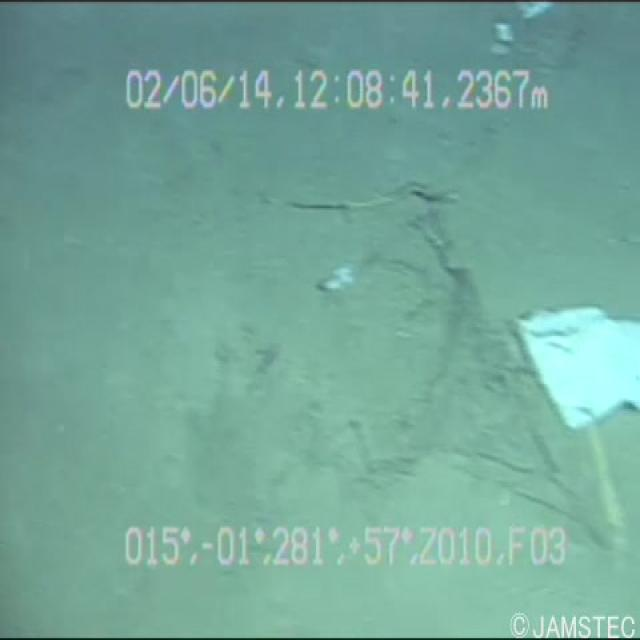plastic: (498, 270, 638, 443)
